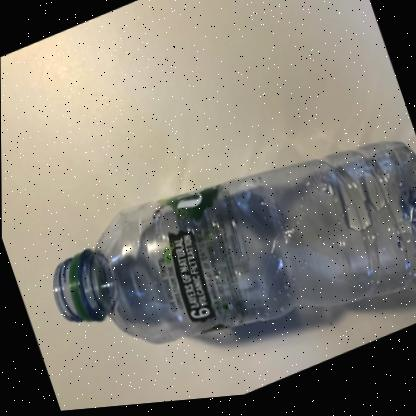Plastic: (53, 149, 416, 347)
